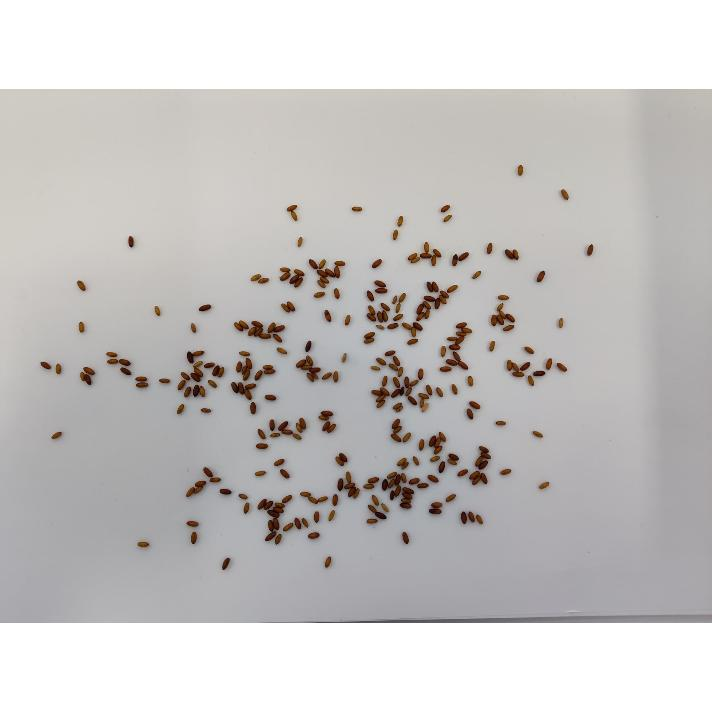pupae: (534, 270, 548, 284), (74, 278, 88, 292), (198, 302, 213, 314), (220, 557, 230, 572), (556, 361, 568, 373), (288, 210, 300, 222), (258, 276, 270, 288), (190, 371, 202, 383), (584, 242, 594, 256), (370, 259, 384, 269), (430, 248, 444, 258), (76, 320, 86, 334), (263, 532, 277, 542), (176, 402, 185, 416), (244, 356, 253, 370), (559, 188, 569, 200), (512, 248, 522, 260), (504, 248, 514, 260), (458, 251, 470, 261), (470, 270, 482, 280), (126, 236, 136, 248), (250, 273, 262, 283), (375, 510, 387, 520), (390, 433, 402, 443), (282, 522, 294, 532), (257, 498, 267, 510), (202, 467, 214, 477), (298, 417, 308, 429), (272, 333, 284, 343), (516, 164, 524, 178), (496, 294, 510, 302), (278, 266, 292, 274), (293, 268, 307, 276), (467, 510, 475, 524), (190, 530, 197, 546), (136, 540, 150, 548), (183, 385, 191, 399), (186, 351, 194, 365), (212, 364, 220, 378), (440, 205, 452, 214), (485, 242, 494, 254), (278, 272, 290, 281), (532, 431, 544, 440), (468, 471, 480, 480), (381, 502, 390, 514), (392, 376, 401, 388), (50, 431, 62, 440), (40, 360, 52, 369), (120, 367, 132, 376), (176, 379, 185, 391), (193, 349, 205, 358), (391, 229, 399, 242), (401, 492, 414, 500), (428, 436, 436, 449), (242, 368, 250, 381), (294, 278, 304, 288), (289, 274, 299, 284), (308, 259, 318, 269), (325, 268, 335, 278), (520, 361, 530, 371), (367, 504, 377, 514), (280, 469, 290, 479), (278, 421, 288, 431), (194, 367, 204, 377), (207, 379, 217, 389), (280, 303, 290, 313), (234, 322, 244, 332), (247, 326, 257, 336), (478, 459, 487, 470), (335, 456, 344, 467), (430, 501, 444, 508), (557, 317, 565, 329), (396, 215, 404, 227), (285, 203, 297, 211), (296, 237, 304, 249), (406, 253, 418, 261), (420, 252, 432, 260), (153, 305, 161, 317), (316, 270, 328, 278), (318, 276, 330, 284), (374, 280, 386, 288), (366, 290, 374, 302), (398, 292, 406, 304), (446, 285, 458, 293), (387, 322, 399, 330), (503, 324, 515, 332), (496, 314, 504, 326), (488, 340, 496, 352), (446, 359, 458, 367), (469, 402, 481, 410), (478, 446, 490, 454), (500, 468, 512, 476), (539, 482, 551, 490), (480, 473, 488, 485), (456, 469, 468, 477), (438, 461, 446, 473), (476, 513, 484, 525), (445, 494, 457, 502), (402, 532, 410, 544), (400, 502, 412, 510), (427, 475, 439, 483), (408, 477, 420, 485), (403, 487, 415, 495), (394, 485, 402, 497), (371, 495, 379, 507), (324, 556, 332, 568), (308, 532, 320, 540), (274, 533, 282, 545), (328, 510, 336, 522), (348, 486, 356, 498), (344, 482, 356, 490), (436, 386, 444, 398), (393, 354, 401, 366), (309, 366, 321, 374), (306, 354, 314, 366), (304, 340, 312, 352), (294, 518, 302, 530), (272, 518, 280, 530), (268, 510, 280, 518), (272, 506, 284, 514), (242, 502, 250, 514), (273, 459, 285, 467), (186, 520, 198, 528), (194, 480, 206, 488), (258, 428, 266, 440), (295, 422, 303, 434), (54, 363, 62, 375), (84, 374, 92, 386), (106, 350, 118, 358), (119, 358, 131, 366), (106, 358, 118, 366), (133, 375, 149, 381), (158, 376, 170, 384), (189, 322, 197, 334), (192, 360, 204, 368), (204, 362, 216, 370), (231, 382, 239, 394), (244, 389, 252, 401), (250, 400, 256, 416), (264, 393, 276, 401), (264, 368, 276, 376), (276, 347, 288, 355), (239, 350, 251, 358), (254, 369, 262, 381), (274, 325, 286, 333), (287, 300, 295, 312), (268, 322, 276, 334), (251, 320, 263, 328), (351, 206, 364, 213), (380, 303, 390, 312), (547, 357, 553, 372), (338, 453, 347, 463), (439, 431, 448, 441), (403, 432, 412, 442), (408, 396, 418, 405), (390, 389, 400, 398), (322, 421, 331, 431), (301, 518, 310, 528), (282, 495, 292, 504), (263, 500, 273, 509), (84, 367, 94, 376), (239, 320, 249, 329), (413, 322, 424, 330), (451, 384, 459, 395), (467, 409, 475, 420), (421, 402, 429, 413), (328, 423, 336, 434), (186, 488, 194, 499), (218, 367, 226, 378), (431, 254, 437, 268), (452, 253, 458, 267), (334, 266, 340, 280), (374, 288, 388, 294), (422, 295, 436, 301), (406, 339, 420, 345), (448, 345, 462, 351), (532, 370, 546, 376), (428, 509, 442, 515), (416, 483, 430, 489), (366, 518, 378, 525), (332, 492, 338, 506), (338, 478, 344, 492), (362, 483, 376, 489), (382, 479, 389, 491), (419, 438, 425, 452), (320, 410, 334, 416), (219, 488, 233, 494), (135, 383, 149, 389), (200, 408, 212, 415), (200, 384, 206, 398), (193, 383, 199, 397), (244, 383, 258, 389), (410, 258, 420, 266), (422, 242, 430, 252), (318, 258, 326, 268), (426, 282, 434, 292), (431, 282, 439, 292), (440, 290, 450, 298), (440, 295, 448, 305), (416, 304, 424, 314), (416, 312, 424, 322), (393, 314, 403, 322), (366, 314, 376, 322), (401, 322, 411, 330), (506, 314, 516, 322), (455, 336, 465, 344), (458, 362, 468, 370), (524, 346, 534, 354), (527, 376, 535, 386), (512, 362, 520, 372), (467, 376, 475, 386), (475, 457, 483, 467), (449, 453, 459, 461), (412, 456, 420, 466), (430, 455, 440, 463), (393, 426, 403, 434), (392, 418, 400, 428), (434, 437, 442, 447), (393, 402, 403, 410), (376, 400, 386, 408), (376, 395, 386, 403), (380, 388, 390, 396), (405, 387, 413, 397), (388, 363, 398, 371), (376, 358, 386, 366), (306, 372, 314, 382), (296, 359, 306, 367), (318, 496, 328, 504), (194, 486, 204, 494), (292, 433, 302, 441), (181, 371, 189, 381), (254, 328, 264, 336), (440, 366, 453, 372), (506, 359, 512, 372), (511, 372, 524, 378), (461, 511, 467, 524), (208, 477, 221, 483), (236, 359, 242, 372), (425, 384, 432, 395), (314, 292, 326, 298), (334, 288, 340, 300), (334, 260, 346, 266), (434, 297, 440, 309), (423, 301, 431, 310), (424, 308, 430, 320), (382, 310, 388, 322), (363, 332, 375, 338), (344, 314, 350, 326), (324, 310, 330, 322), (490, 314, 496, 326), (455, 322, 467, 328), (460, 328, 472, 334), (446, 336, 458, 342), (440, 346, 446, 358), (495, 420, 507, 426), (400, 498, 412, 504), (389, 490, 395, 502), (368, 477, 380, 483), (401, 472, 407, 484), (404, 376, 410, 388), (418, 368, 424, 380), (322, 372, 331, 380), (314, 511, 320, 523), (268, 520, 274, 532), (274, 502, 286, 508), (254, 471, 266, 477), (256, 443, 268, 449), (269, 419, 275, 431), (281, 429, 293, 435), (238, 383, 244, 395), (262, 364, 274, 370), (259, 333, 271, 339), (387, 472, 397, 479), (308, 497, 318, 504), (238, 493, 248, 500), (456, 331, 467, 337), (480, 453, 491, 459), (395, 473, 401, 484), (398, 367, 404, 378), (384, 350, 395, 356), (318, 280, 326, 288), (368, 306, 376, 314), (496, 303, 504, 311), (453, 352, 461, 360), (472, 476, 480, 484), (398, 458, 406, 466), (434, 446, 442, 454), (240, 366, 248, 374), (410, 379, 419, 386), (443, 216, 453, 222), (392, 295, 398, 305), (377, 312, 383, 322), (375, 324, 385, 330), (412, 326, 417, 338), (364, 338, 374, 344), (448, 459, 458, 465), (354, 489, 360, 499), (346, 472, 352, 482), (389, 479, 395, 489), (418, 392, 428, 398), (372, 390, 382, 396), (382, 376, 388, 386), (341, 352, 347, 362), (302, 364, 312, 370), (318, 416, 330, 421), (270, 433, 280, 439), (79, 372, 85, 382), (500, 311, 507, 319), (401, 462, 408, 470), (370, 366, 381, 371), (395, 303, 400, 313), (396, 407, 404, 413), (334, 371, 338, 383), (312, 372, 318, 380), (299, 492, 311, 496), (419, 397, 423, 407), (400, 386, 404, 396)
